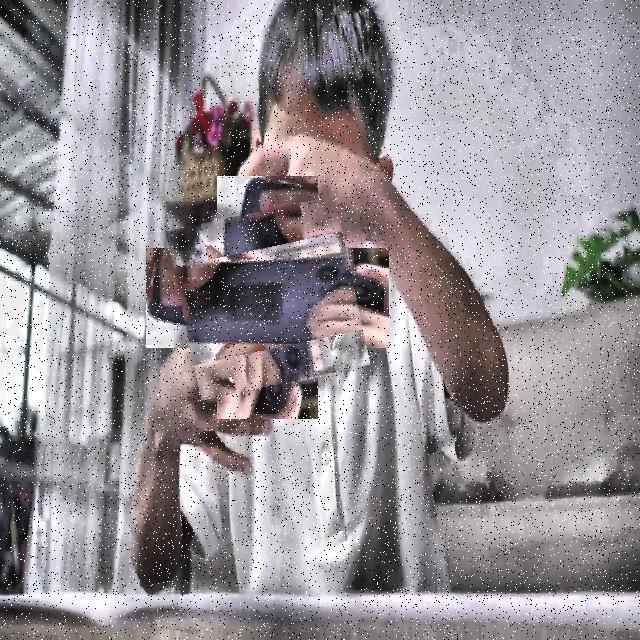Phone: (173, 203, 362, 392)
